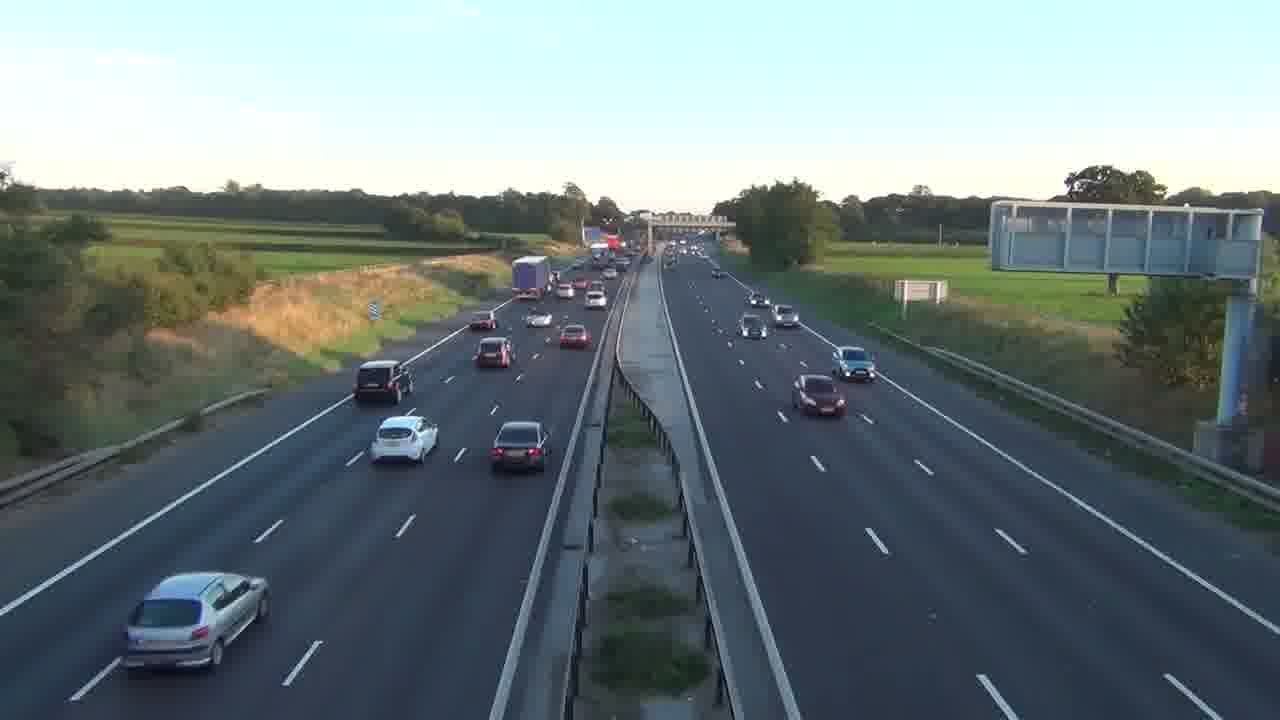bus: (353, 359, 407, 404)
car: (122, 571, 270, 674), (370, 412, 439, 465), (490, 419, 550, 474), (792, 372, 848, 418), (832, 346, 877, 382), (473, 336, 513, 368), (558, 323, 593, 351)
truck: (353, 359, 407, 404)
